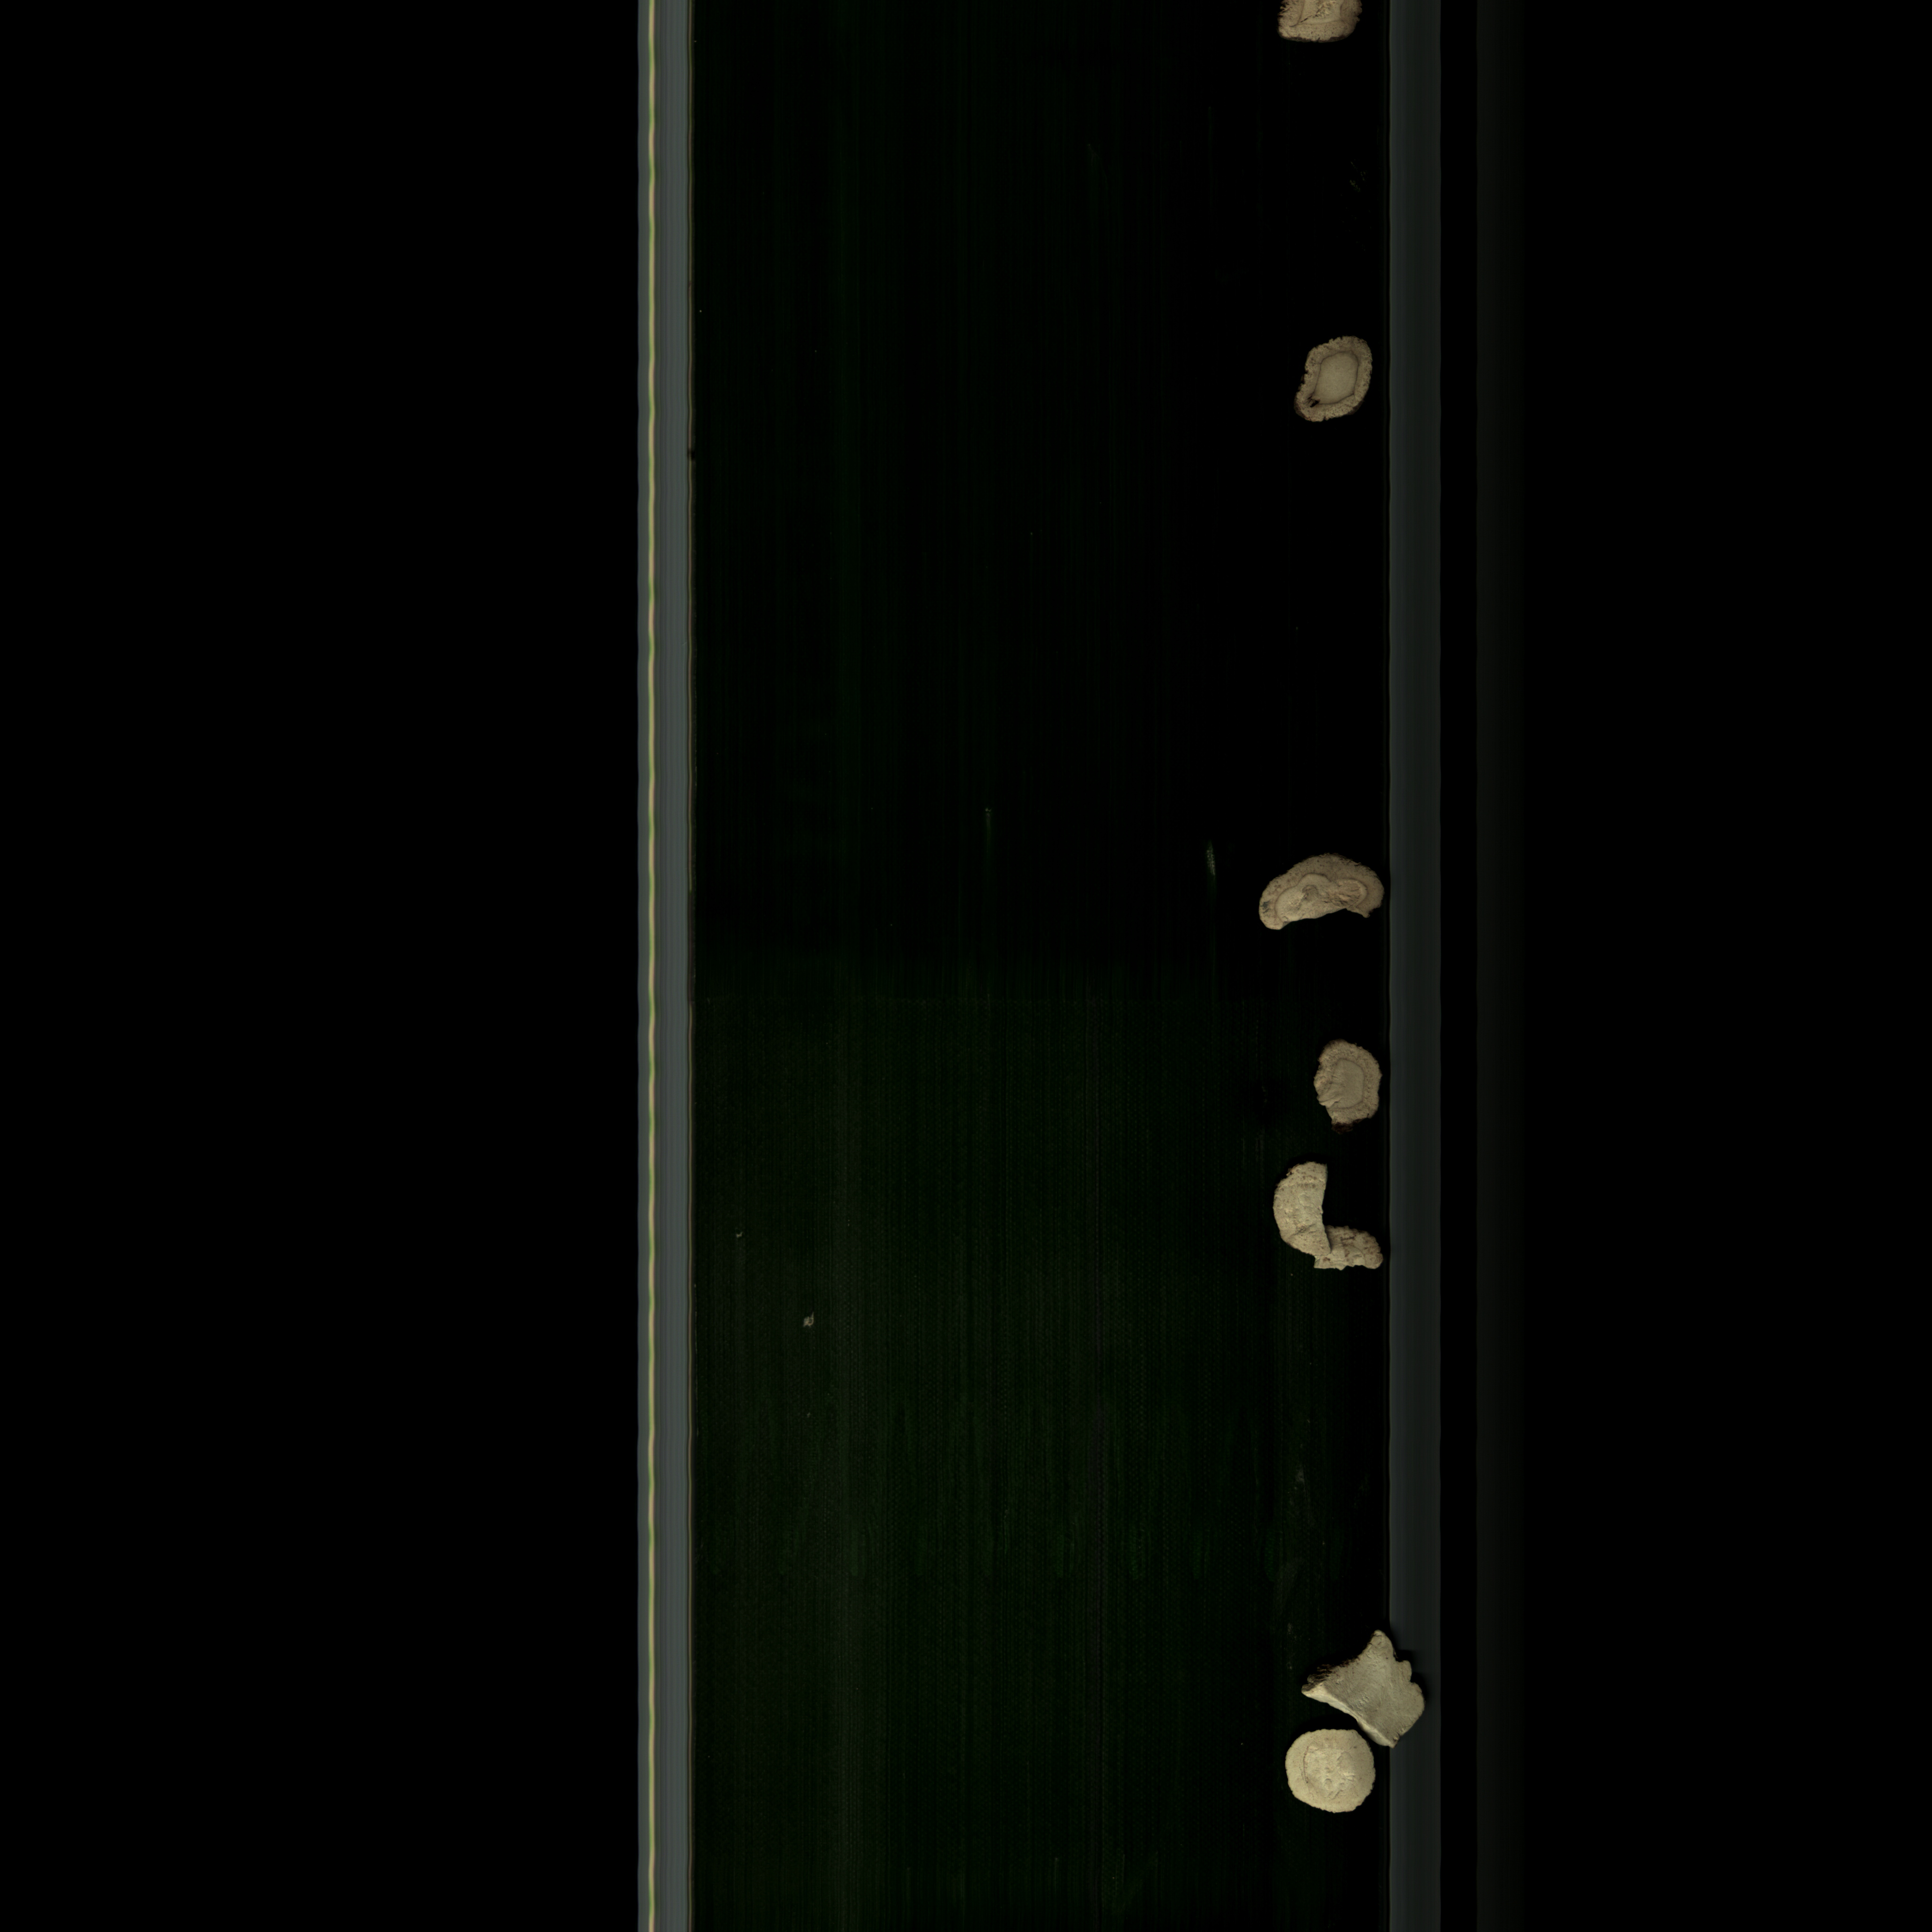debris: (1281, 1622, 1430, 1750), (1260, 1154, 1339, 1256), (1311, 1221, 1387, 1274)
moldy: (1247, 853, 1391, 934), (1281, 334, 1384, 432), (1302, 1033, 1389, 1138), (1261, 0, 1368, 50)
